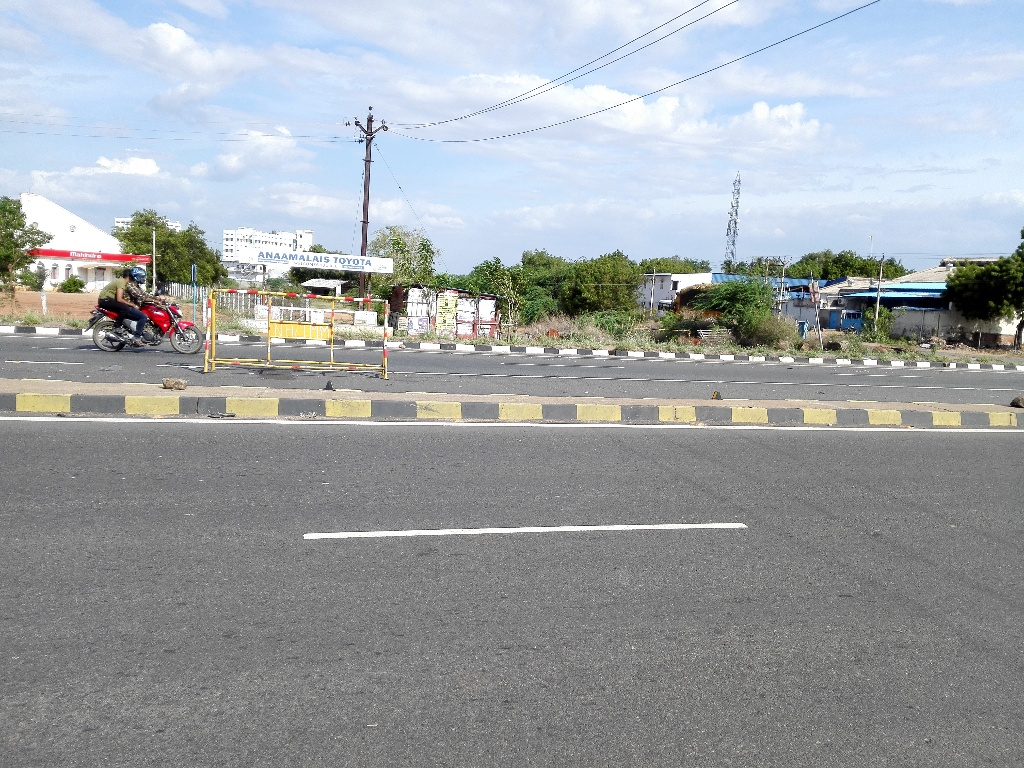biker: (79, 247, 211, 365)
helmet: (130, 260, 154, 287)
nohelmet: (118, 259, 132, 285)
